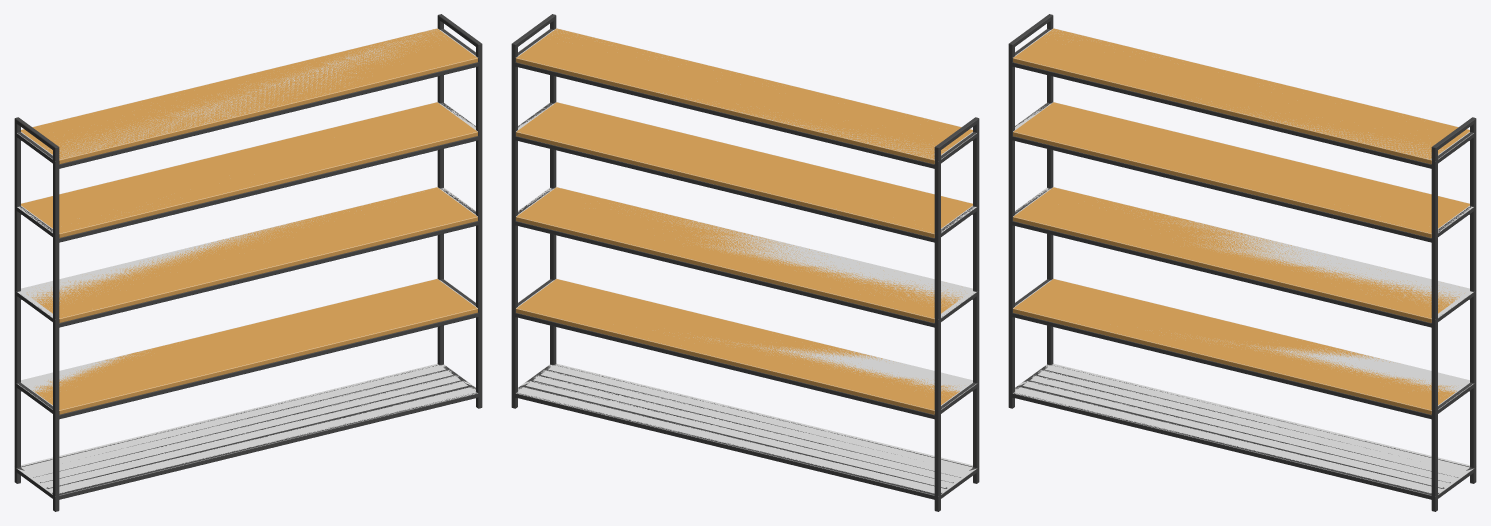
The model's file is iron-frame-shelf-5.glb.
The picture shows the model from 3 angles, left to right: view 1: azimuth 30°, elevation 25°; view 2: azimuth 150°, elevation 25°; view 3: azimuth 330°, elevation 25°; orthographic projection.
Parts seen in each view (by area): view 1: Frame5.002, Board.008, Board.009, Board, Board.007, __TOP__Plane, __TOP__Plane.012, __TOP__Plane.010, __TOP__Plane.009, __TOP__Plane.011; view 2: Frame5.002, Board.008, Board.009, Board, __TOP__Plane, Board.007, __TOP__Plane.010, __TOP__Plane.009, __TOP__Plane.012, __TOP__Plane.011; view 3: Frame5.002, Board.008, Board.009, Board, __TOP__Plane, Board.007, __TOP__Plane.010, __TOP__Plane.009, __TOP__Plane.012, __TOP__Plane.011.
Boxes of the visible parts, bbox=[...] form: Frame5.002: bbox=[14, 14, 482, 511]; Board.008: bbox=[21, 102, 477, 237]; Board.009: bbox=[21, 28, 477, 164]; Board: bbox=[33, 279, 477, 414]; Board.007: bbox=[27, 187, 477, 322]; __TOP__Plane: bbox=[17, 364, 477, 495]; __TOP__Plane.012: bbox=[17, 28, 477, 159]; __TOP__Plane.010: bbox=[17, 187, 477, 318]; __TOP__Plane.009: bbox=[18, 278, 477, 410]; __TOP__Plane.011: bbox=[17, 102, 477, 233]; Frame5.002: bbox=[511, 14, 979, 511]; Board.008: bbox=[516, 102, 972, 237]; Board.009: bbox=[516, 28, 972, 164]; Board: bbox=[516, 279, 959, 414]; __TOP__Plane: bbox=[516, 364, 976, 495]; Board.007: bbox=[516, 187, 962, 322]; __TOP__Plane.010: bbox=[516, 187, 976, 318]; __TOP__Plane.009: bbox=[516, 278, 975, 410]; __TOP__Plane.012: bbox=[516, 28, 976, 159]; __TOP__Plane.011: bbox=[516, 102, 976, 233]; Frame5.002: bbox=[1008, 14, 1476, 511]; Board.008: bbox=[1013, 102, 1469, 237]; Board.009: bbox=[1013, 28, 1469, 164]; Board: bbox=[1013, 279, 1456, 414]; __TOP__Plane: bbox=[1013, 364, 1473, 495]; Board.007: bbox=[1013, 187, 1464, 322]; __TOP__Plane.010: bbox=[1013, 187, 1473, 318]; __TOP__Plane.009: bbox=[1013, 278, 1472, 410]; __TOP__Plane.012: bbox=[1013, 28, 1473, 159]; __TOP__Plane.011: bbox=[1013, 102, 1473, 233].
Size of the model in its own units: 2 by 1.63 by 0.33.
